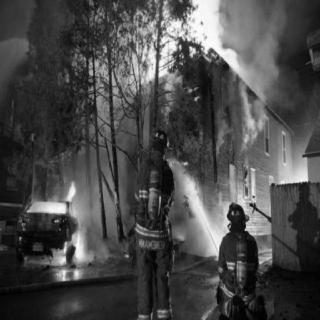Fire: (142, 1, 242, 80), (37, 172, 91, 266)
